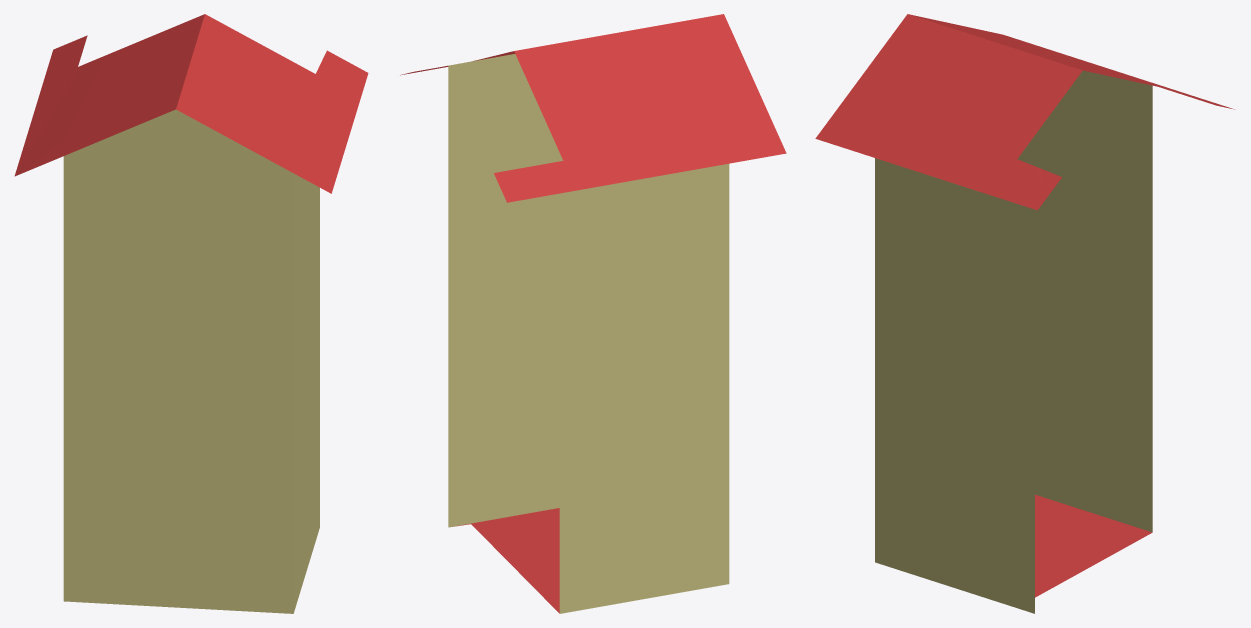
3 renders of one model, left to right at view 1: azimuth 30°, elevation 25°; view 2: azimuth 150°, elevation 25°; view 3: azimuth 270°, elevation 25°, orthographic. The views are drawn at different scales.
Visible parts, largest first — view 1: group_5, group_3, group_4; view 2: group_5, group_3, group_6, group_4; view 3: group_5, group_3, group_6, group_4.
Boxes of the visible parts, x1,y1,x2,y2 form: group_5: (63,109,319,613); group_3: (14,14,368,193); group_4: (16,38,365,174); group_5: (448,54,729,613); group_3: (400,14,786,202); group_6: (452,508,559,613); group_4: (413,66,784,201); group_5: (875,70,1152,613); group_3: (815,14,1233,210); group_6: (1035,494,1152,597); group_4: (886,36,1234,208).
Size of the model in its own units: 7.32 by 7.42 by 9.73.
